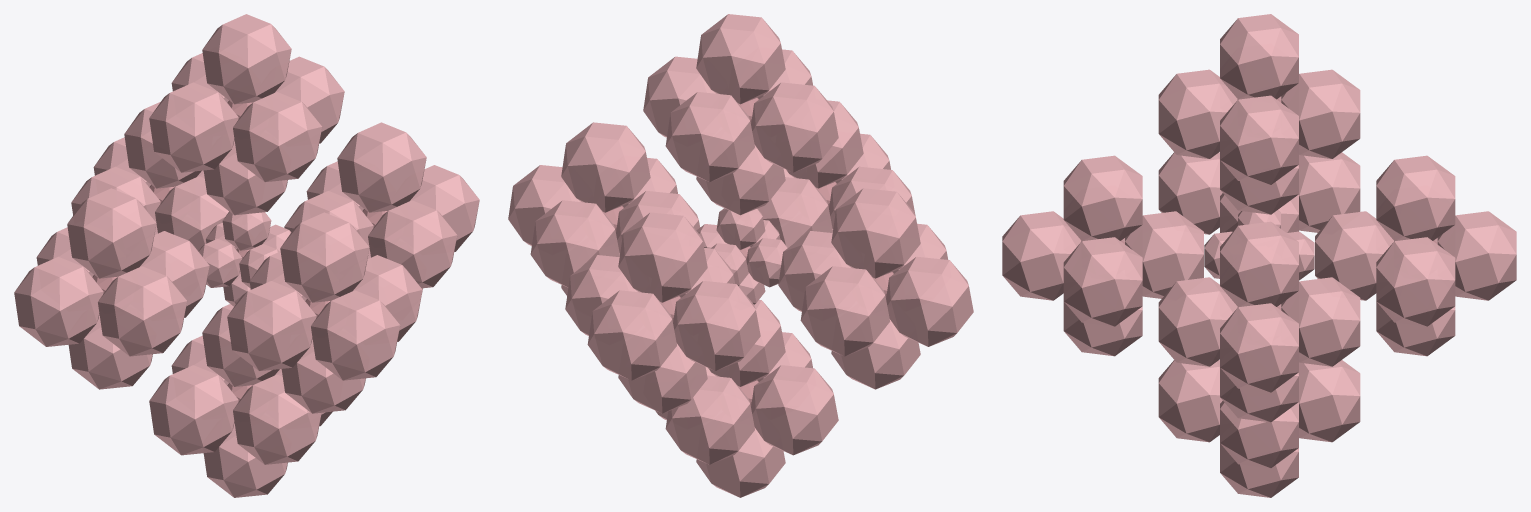
File: fractalsnubcube2.glb
3 renders of one model, left to right at view 1: azimuth 30°, elevation 25°; view 2: azimuth 150°, elevation 25°; view 3: azimuth 270°, elevation 25°, orthographic.
Size of the model in its own units: 10.3 by 10.3 by 10.3.
